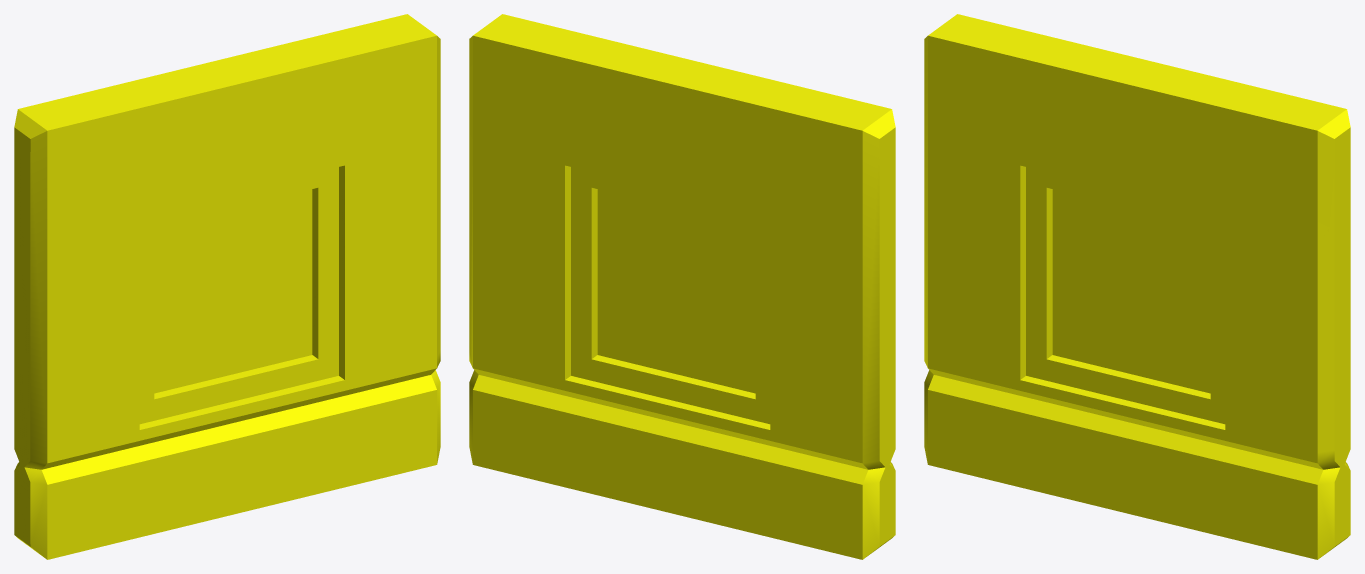
Rendered from kaykit-prototype-wall-window-closed.glb.
3 views of the same model, side by side, from view 1: azimuth 30°, elevation 25°; view 2: azimuth 150°, elevation 25°; view 3: azimuth 330°, elevation 25° (orthographic).
Parts seen in each view (by area): view 1: Wall_Window_Closed; view 2: Wall_Window_Closed; view 3: Wall_Window_Closed.
Part boxes in pixels (x1,y1,x2,y2): Wall_Window_Closed: (14,14,440,559); Wall_Window_Closed: (469,14,895,559); Wall_Window_Closed: (924,14,1350,559).
Size of the model in its own units: 4 by 4 by 0.5298.
